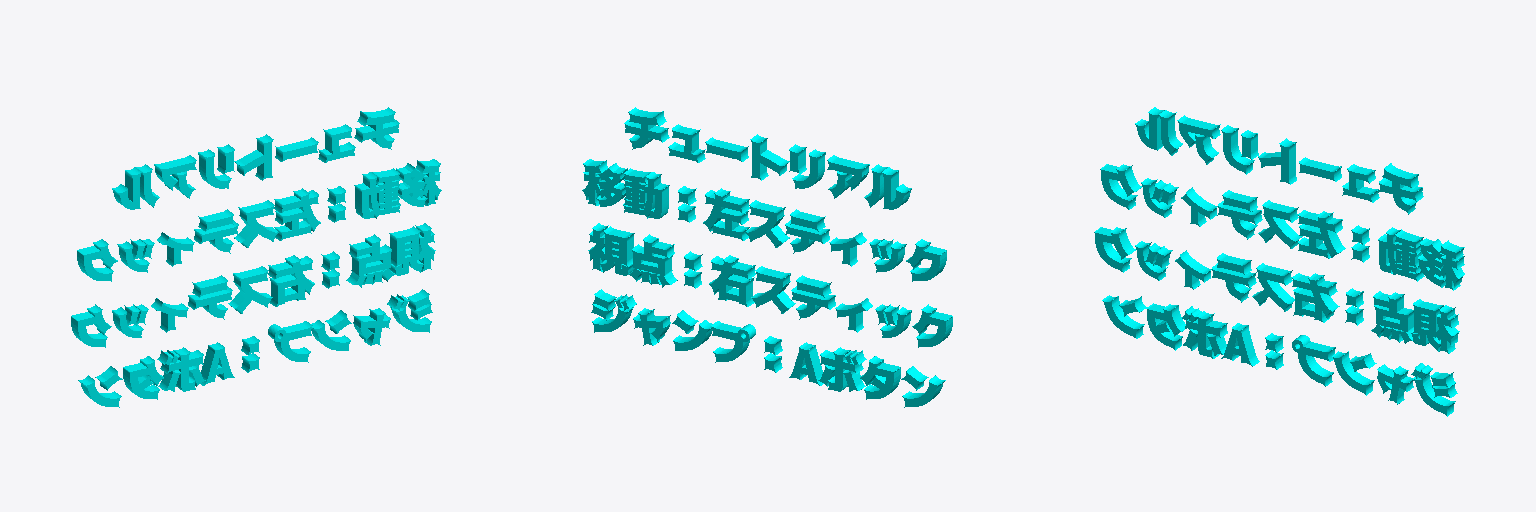
3 renders of one model, left to right at view 1: azimuth 30°, elevation 25°; view 2: azimuth 150°, elevation 25°; view 3: azimuth 330°, elevation 25°, orthographic.
Visible parts, largest first — view 1: テキスト; view 2: テキスト; view 3: テキスト.
Boxes of the visible parts, box(x1,y1,x2,y2) form: テキスト: box(71, 107, 441, 407); テキスト: box(582, 107, 952, 407); テキスト: box(1094, 107, 1464, 416).
Bounding box in the file's own units: 5.93 × 3.63 × 0.2.
Materials: 1 (1 with a texture image).